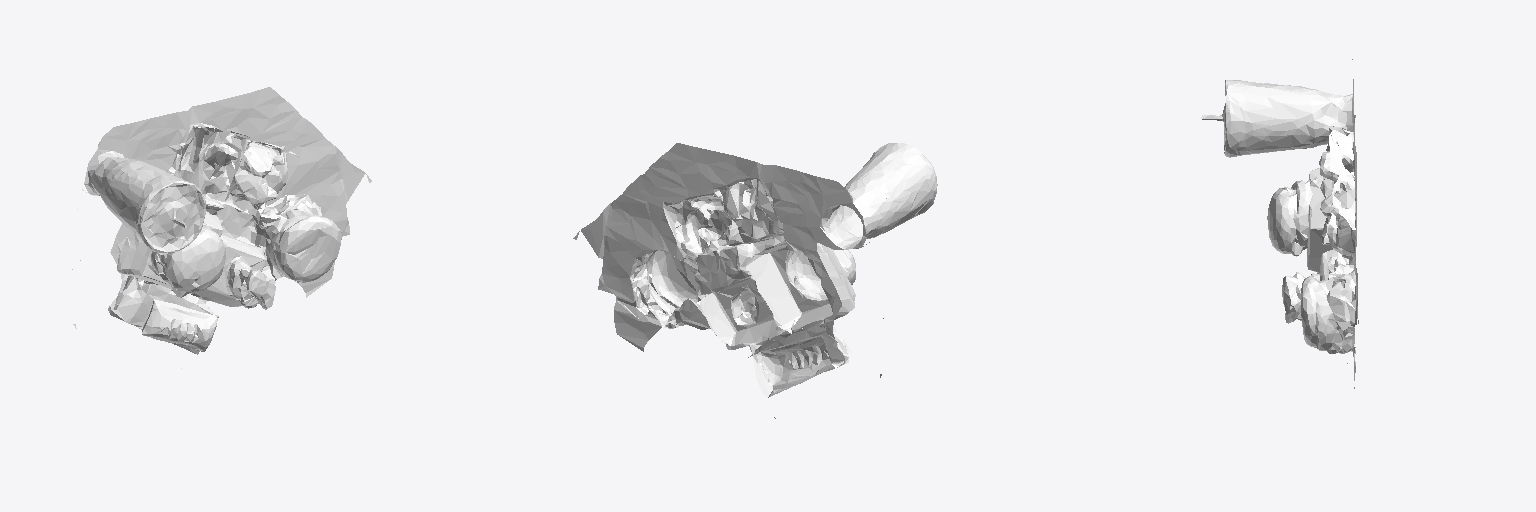
File: mickyd.obj
3 renders of one model, left to right at view 1: azimuth 30°, elevation 25°; view 2: azimuth 150°, elevation 25°; view 3: azimuth 270°, elevation 25°, orthographic.
Bounding box in the file's own units: 22.77 × 18 × 9.99.